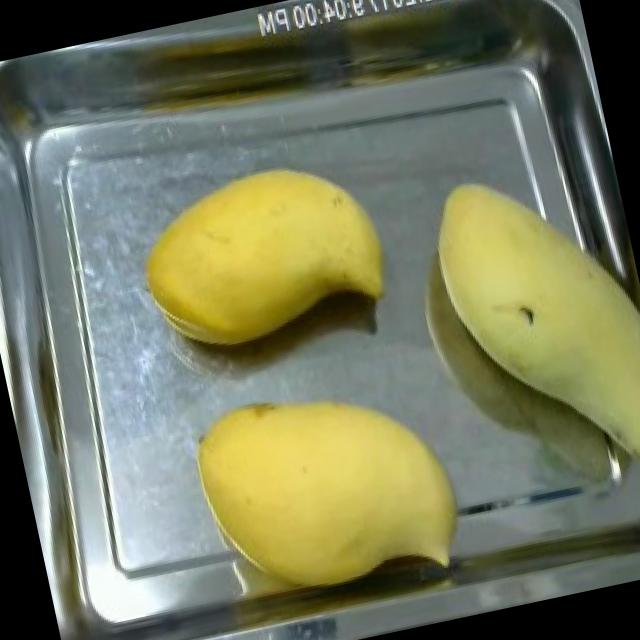fruit: (169, 351, 486, 628), (406, 137, 640, 505), (116, 130, 414, 376)
